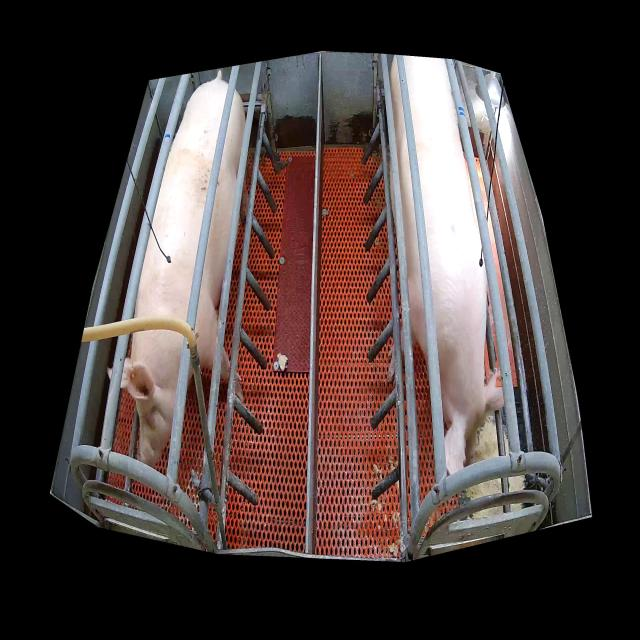pig: (120, 81, 248, 469), (388, 56, 504, 475)
